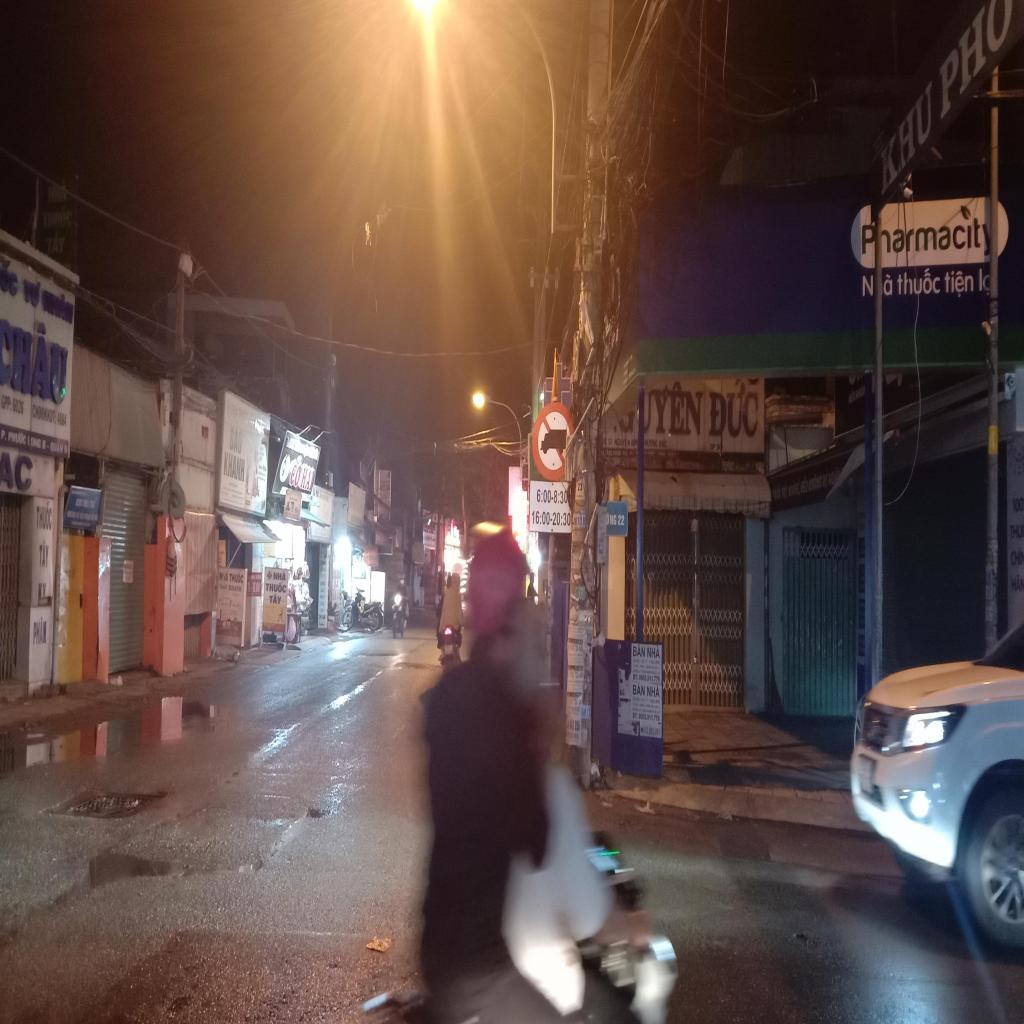cam_o_to_tai: (529, 400, 574, 479)
khac: (530, 478, 572, 534)
